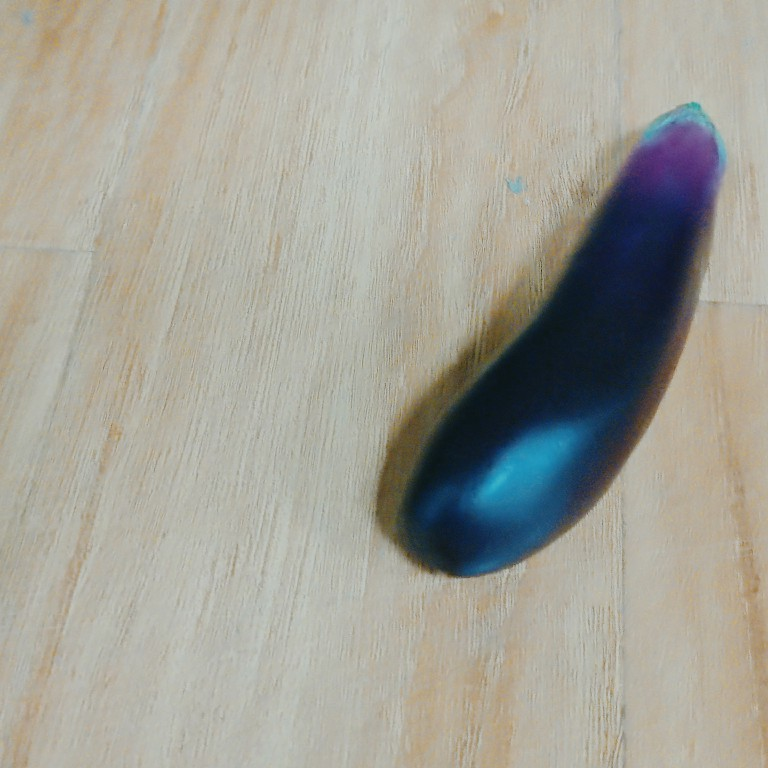fruit_eggplant: (393, 96, 729, 582)
